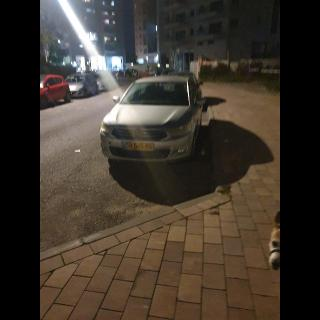LicensePlate: (125, 142, 155, 151)
